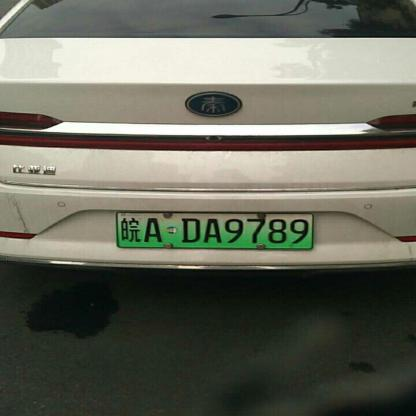lp: (118, 212, 312, 250)
